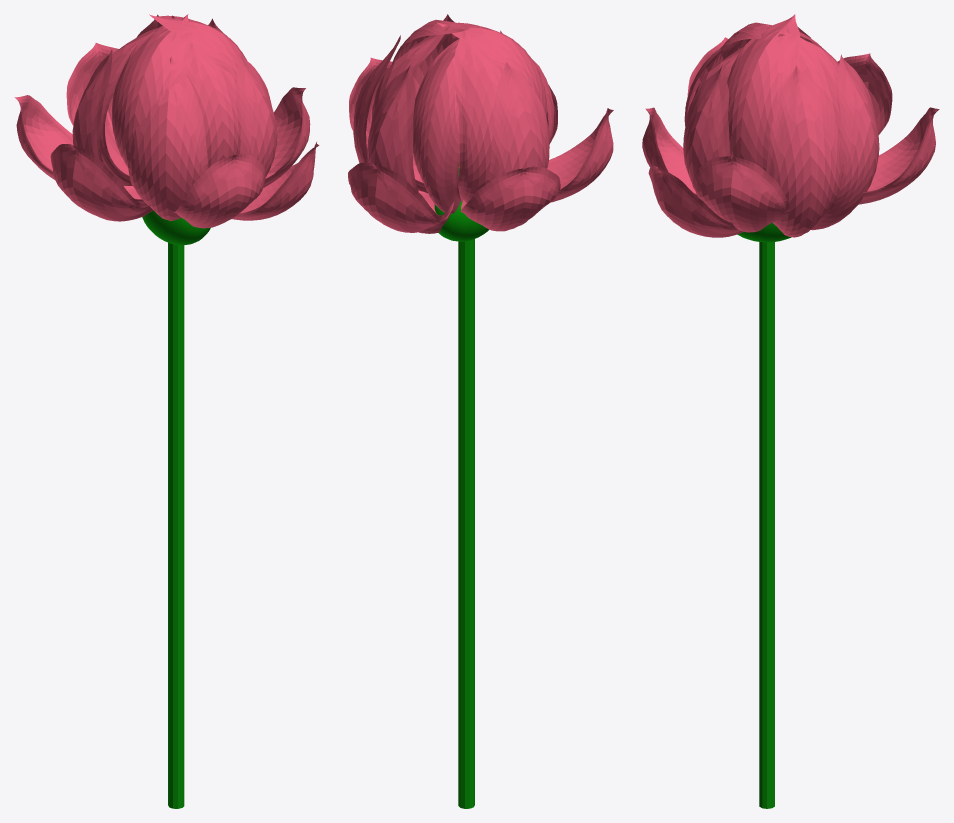
Rendered from Lotus045.fbx.
3 renders of one model, left to right at view 1: azimuth 30°, elevation 25°; view 2: azimuth 150°, elevation 25°; view 3: azimuth 270°, elevation 25°, orthographic.
Parts seen in each view (by area): view 1: pCylinder1, nurbsToPoly16, nurbsToPoly21, nurbsToPoly11, nurbsToPoly8, nurbsToPoly18, nurbsToPoly13, nurbsToPoly12, nurbsToPoly9, nurbsToPoly24, nurbsToPoly14, nurbsToPoly22 (+3 smaller); view 2: pCylinder1, nurbsToPoly23, nurbsToPoly20, nurbsToPoly14, nurbsToPoly12, nurbsToPoly10, nurbsToPoly17, nurbsToPoly11, nurbsToPoly21, nurbsToPoly15, nurbsToPoly22, nurbsToPoly19 (+2 smaller); view 3: pCylinder1, nurbsToPoly15, nurbsToPoly22, nurbsToPoly17, nurbsToPoly9, nurbsToPoly13, nurbsToPoly10, nurbsToPoly24, nurbsToPoly8, nurbsToPoly19, nurbsToPoly12, nurbsToPoly21 (+2 smaller).
Boxes of the visible parts, x1,y1,x2,y2 form: pCylinder1: [168, 242, 184, 808]; nurbsToPoly16: [127, 57, 208, 220]; nurbsToPoly21: [112, 14, 192, 167]; nurbsToPoly11: [50, 144, 153, 221]; nurbsToPoly8: [174, 154, 265, 228]; nurbsToPoly18: [185, 43, 240, 167]; nurbsToPoly13: [237, 52, 277, 177]; nurbsToPoly12: [14, 95, 126, 185]; nurbsToPoly9: [263, 87, 310, 187]; nurbsToPoly24: [232, 142, 319, 220]; nurbsToPoly14: [72, 49, 147, 216]; nurbsToPoly22: [149, 14, 247, 85]; pCylinder1: [458, 239, 474, 808]; nurbsToPoly23: [413, 38, 461, 214]; nurbsToPoly20: [454, 27, 503, 202]; nurbsToPoly14: [485, 62, 549, 184]; nurbsToPoly12: [460, 167, 560, 231]; nurbsToPoly10: [348, 162, 454, 232]; nurbsToPoly17: [367, 64, 450, 233]; nurbsToPoly11: [547, 108, 613, 202]; nurbsToPoly21: [436, 22, 546, 117]; nurbsToPoly15: [353, 35, 400, 162]; nurbsToPoly22: [392, 19, 470, 179]; nurbsToPoly19: [371, 25, 449, 193]; pCylinder1: [759, 242, 774, 808]; nurbsToPoly15: [766, 65, 843, 237]; nurbsToPoly22: [727, 14, 800, 171]; nurbsToPoly17: [811, 54, 879, 230]; nurbsToPoly9: [692, 156, 789, 232]; nurbsToPoly13: [683, 65, 729, 216]; nurbsToPoly10: [858, 107, 939, 204]; nurbsToPoly24: [648, 165, 743, 237]; nurbsToPoly8: [642, 107, 697, 196]; nurbsToPoly19: [786, 26, 840, 137]; nurbsToPoly12: [837, 53, 892, 134]; nurbsToPoly21: [710, 22, 785, 69].
Size of the model in its own units: 17.02 by 52.58 by 18.06.
